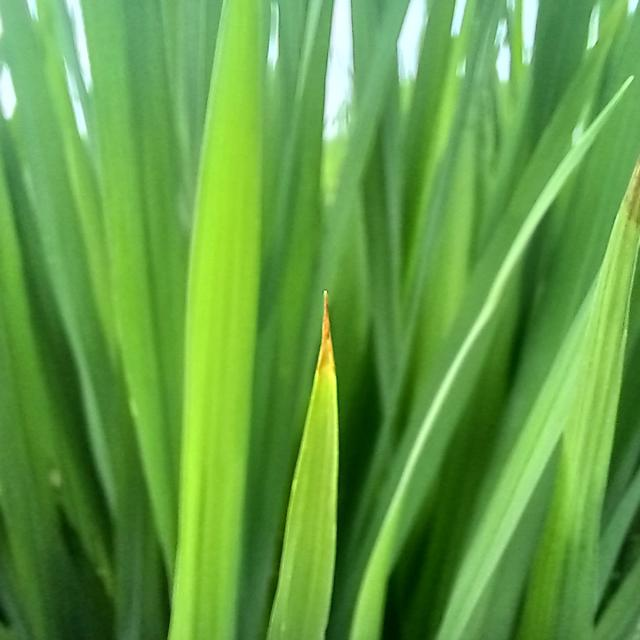HealthyLeaf: (442, 232, 632, 640), (167, 0, 273, 638), (264, 391, 337, 638)
